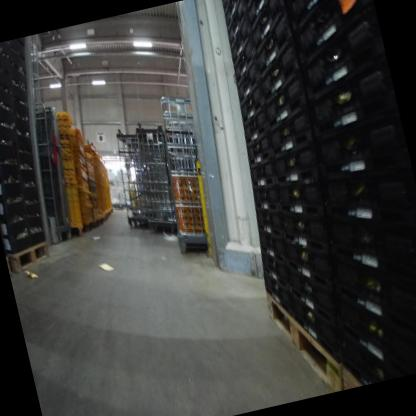pallet: (261, 277, 344, 399), (6, 231, 57, 278), (337, 360, 367, 388)
